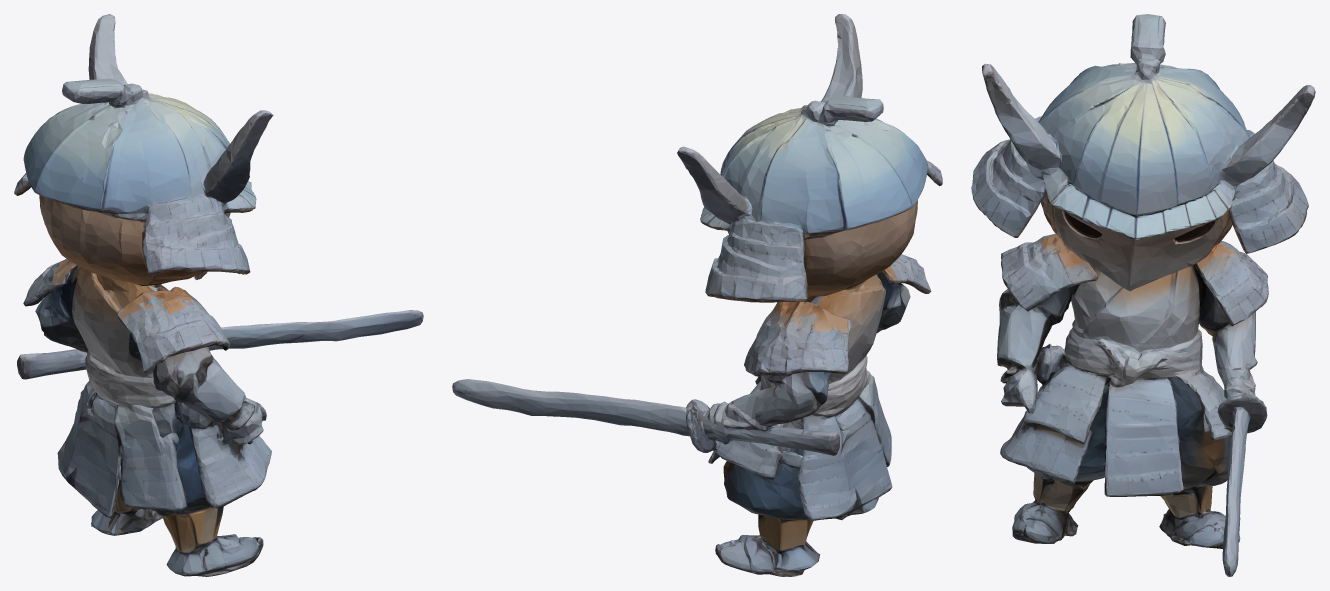
File: Player.B.glb
3 views of the same model, side by side, from view 1: azimuth 30°, elevation 25°; view 2: azimuth 150°, elevation 25°; view 3: azimuth 270°, elevation 25° (orthographic). The views are drawn at different scales.
Visible parts, largest first — view 1: tripo_node_5a5279b0-3f69-487f-b13e-dcb8c54980d1; view 2: tripo_node_5a5279b0-3f69-487f-b13e-dcb8c54980d1; view 3: tripo_node_5a5279b0-3f69-487f-b13e-dcb8c54980d1.
Boxes of the visible parts, x1,y1,x2,y2 form: tripo_node_5a5279b0-3f69-487f-b13e-dcb8c54980d1: [14, 14, 423, 576]; tripo_node_5a5279b0-3f69-487f-b13e-dcb8c54980d1: [452, 14, 942, 576]; tripo_node_5a5279b0-3f69-487f-b13e-dcb8c54980d1: [971, 14, 1315, 576].
Size of the model in its own units: 0.9387 by 1 by 0.639.
1 material, 1 textured.
